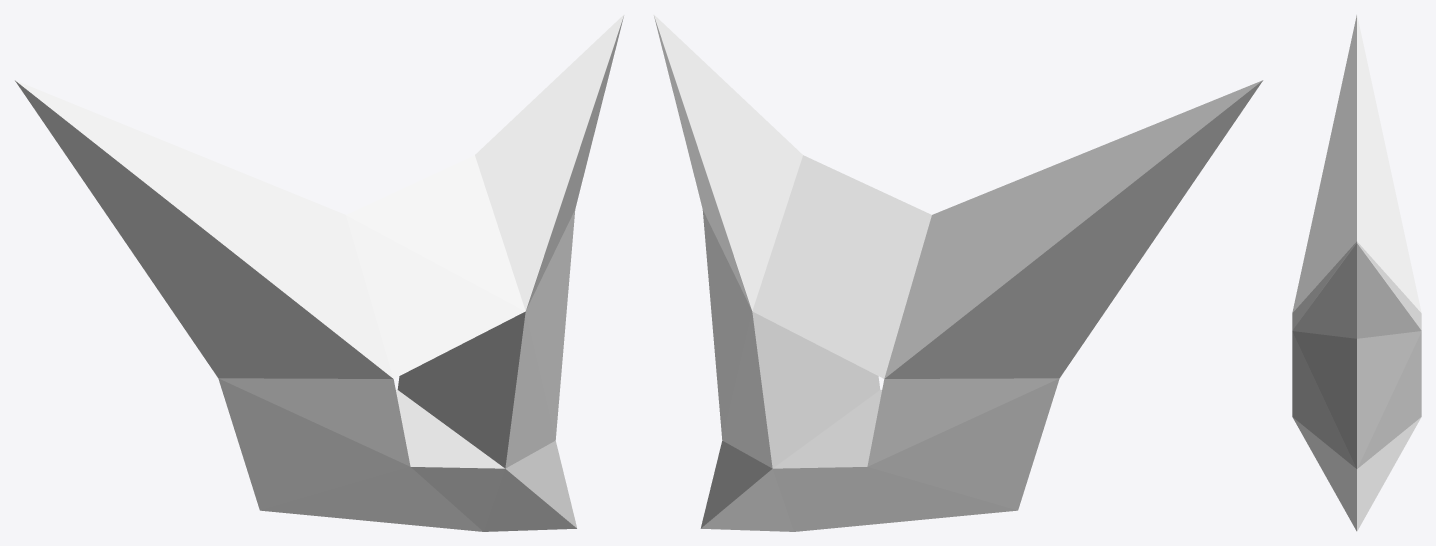
Rendered from core.obj.
3 renders of one model, left to right at view 1: azimuth 30°, elevation 25°; view 2: azimuth 150°, elevation 25°; view 3: azimuth 270°, elevation 25°, orthographic. The views are drawn at different scales.
Parts seen in each view (by area): view 1: leverCore_立方体; view 2: leverCore_立方体; view 3: leverCore_立方体.
Part boxes in pixels (left/top/right/bottom): leverCore_立方体: left=14, top=14, right=624, bottom=531; leverCore_立方体: left=653, top=14, right=1263, bottom=531; leverCore_立方体: left=1292, top=15, right=1421, bottom=531.
Size of the model in its own units: 1.32 by 1.21 by 0.4032.
1 material, 1 textured.
